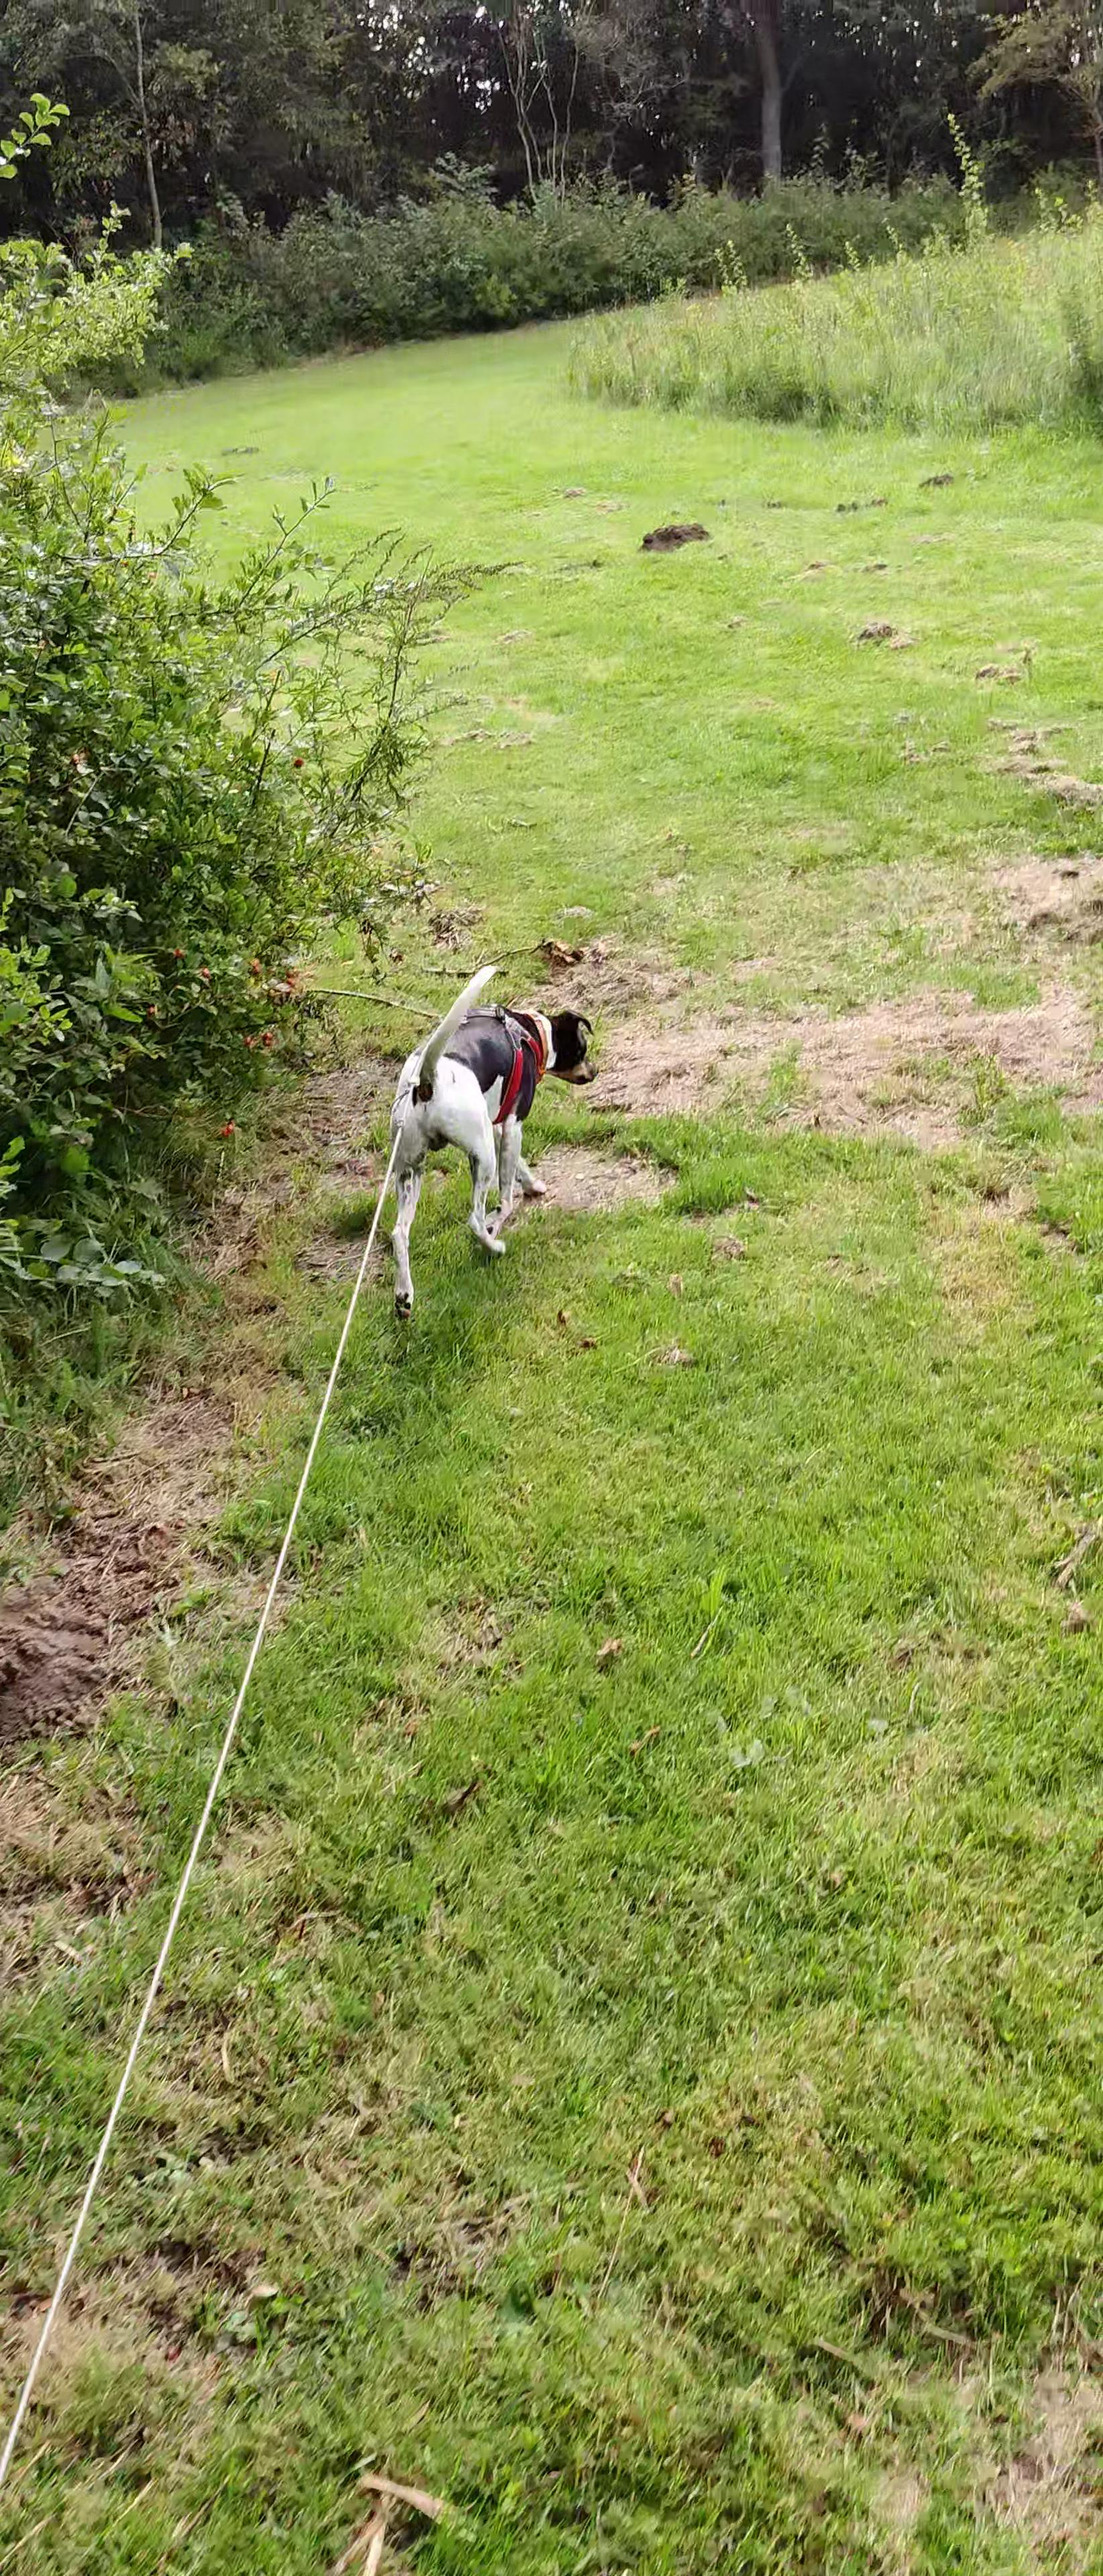Dog: (378, 961, 603, 1326)
